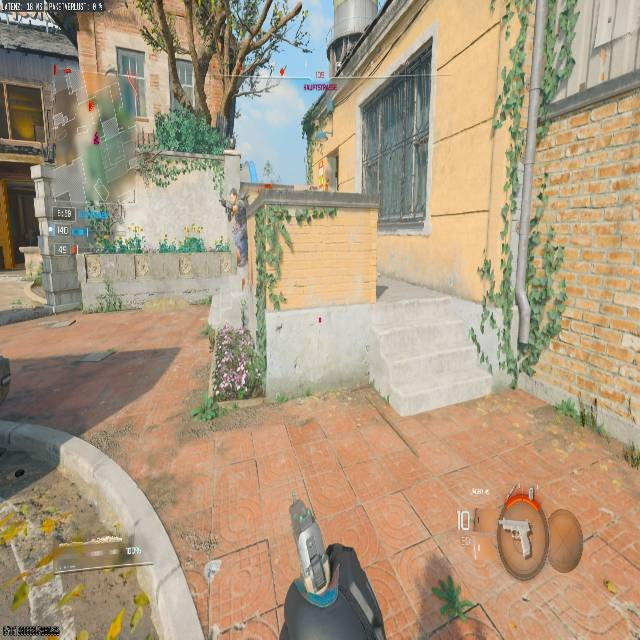head: (229, 188, 237, 198)
